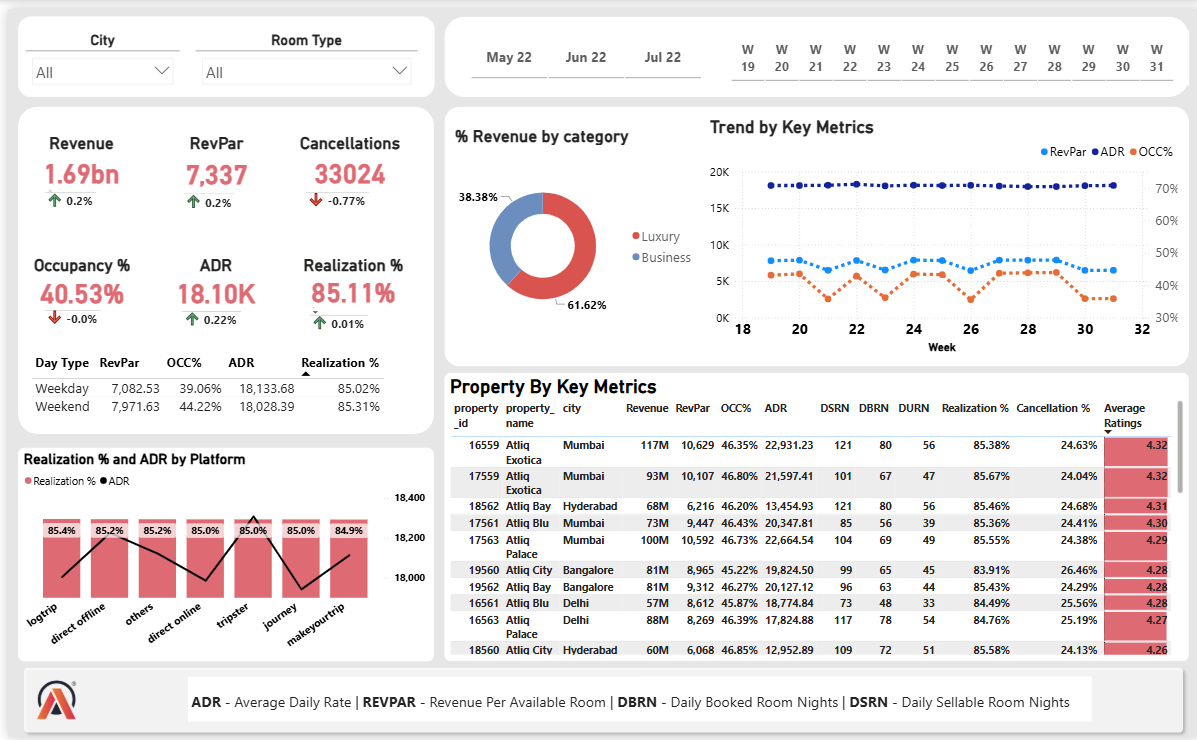

The dashboard page shown, as its layout file describes it:
{"tool":"powerbi","page":{"name":"Performance_dashboard","canvas":[1800,1100],"ordinal":0},"visuals":[{"type":"shape","box":[14.7,11.1,628.5,121.6],"z":0,"group":"g1"},{"type":"shape","box":[658,147.5,1124.3,392.6],"z":0,"group":"g5"},{"type":"tableEx","fields":{"Values":["key_metrics.DSRN WoW change %"]},"box":[443.5,249.4,143.8,82.9],"z":0,"group":"g8"},{"type":"tableEx","fields":{"Values":["key_metrics.Realization WoW change %"]},"box":[447.8,434.5,140.7,65.3],"z":0,"group":"g4"},{"type":"tableEx","title":"Property By Key Metrics","fields":{"Values":["dim_hotels.property_id","dim_hotels.property_name","dim_hotels.city","key_metrics.Revenue","key_metrics.RevPar","key_metrics.OCC%","key_metrics.ADR","key_metrics.DSRN(Daily Sellable Room Nights)","key_metrics.DBRN","key_metrics.DURN","key_metrics.Realization %","key_metrics.Cancellation %"]},"box":[658,549.3,1124.3,435],"z":0},{"type":"shape","box":[14.7,147.5,628.1,494.5],"z":500,"group":"g2"},{"type":"shape","box":[658,11.1,1124.3,121.6],"z":1000,"group":"g3"},{"type":"tableEx","fields":{"Values":["key_metrics.RevPar WoW % change"]},"box":[257.5,250.1,123.5,84.8],"z":1000,"group":"g9"},{"type":"card","title":"Realization %","fields":{"Values":["key_metrics.Realization %"]},"box":[431.7,372.7,178.8,78.8],"z":1000,"group":"g4"},{"type":"shape","box":[14.7,984.3,1767.6,116.1],"z":1000},{"type":"slicer","fields":{"Values":["dim_date.week no"]},"box":[1065.3,31.4,717,82.9],"z":2000,"group":"g3"},{"type":"slicer","title":"City","fields":{"Values":["dim_hotels.city"]},"box":[25.8,33.2,233.2,81.1],"z":2000,"group":"g1"},{"type":"donutChart","title":"% Revenue by category","fields":{"Category":["dim_hotels.category"],"Y":["key_metrics.Revenue"]},"box":[669.4,177,376.1,332.7],"z":2000,"group":"g5"},{"type":"lineStackedColumnComboChart","title":"Realization % and ADR by Platform","fields":{"Category":["fact_bookings.booking_platform"],"Y":["key_metrics.Realization %"],"Y2":["key_metrics.ADRR"]},"box":[15.3,662.5,628.1,322.7],"z":2000},{"type":"slicer","fields":{"Values":["dim_date.mmm yy"]},"box":[673,31.4,396.1,79.3],"z":3000,"group":"g3"},{"type":"slicer","title":"Room Type","fields":{"Values":["dim_rooms.room_class"]},"box":[283.4,33.2,335.4,81.1],"z":3000,"group":"g1"},{"type":"lineChart","title":"Trend by Key Metrics","fields":{"Category":["dim_date.wn"],"Y":["key_metrics.RevPar","key_metrics.ADR1"],"Y2":["key_metrics.OCC%"]},"box":[1054.3,162.9,715.2,362.5],"z":3000,"group":"g5"},{"type":"image","box":[28.1,1007.5,91.6,69.7],"z":3000},{"type":"group","id":"g1","title":"Group 7","box":[14.7,11.1,628.5,121.6],"z":4000},{"type":"textbox","box":[271.4,1007.7,1363.9,68.2],"z":5000},{"type":"group","id":"g2","title":"Group 9","box":[14.7,147.5,628.5,494],"z":6000},{"type":"tableEx","fields":{"Values":["dim_date.day_type","key_metrics.RevPar","key_metrics.OCC%","key_metrics.ADR","key_metrics.Realization %"]},"box":[29.5,514.7,597.6,120.3],"z":6000,"group":"g2"},{"type":"group","id":"g3","title":"Group 8","box":[658,11.1,1124.3,121.6],"z":7000},{"type":"tableEx","fields":{"Values":["key_metrics.Revenue WoW change %"]},"box":[50,249.4,134.6,82.9],"z":7000,"group":"g10"},{"type":"group","id":"g4","title":"Group 1","box":[431.7,372.7,178.8,127.2],"z":7000,"group":"g2"},{"type":"group","id":"g5","title":"Group 10","box":[658,147.5,1124.3,392.6],"z":8000},{"type":"group","id":"g6","title":"Group 2","box":[229.9,371.3,167.2,131.8],"z":8000,"group":"g2"},{"type":"card","title":"RevPar","fields":{"Values":["key_metrics.RevPar"]},"box":[229,188.4,169.5,86.8],"z":9000,"group":"g9"},{"type":"group","id":"g7","title":"Group 3","box":[27.9,371.3,167.2,131.8],"z":9000,"group":"g2"},{"type":"card","title":"Revenue","fields":{"Values":["key_metrics.Revenue"]},"box":[27,189.3,169.1,85.6],"z":10000,"group":"g10"},{"type":"group","id":"g8","title":"Group 4","box":[432.4,189.3,168.6,143],"z":10000,"group":"g2"},{"type":"group","id":"g9","title":"Group 5","box":[229,188.4,169.5,146.4],"z":11000,"group":"g2"},{"type":"card","title":"Cancellations","fields":{"Values":["key_metrics.Cancellations"]},"box":[432.4,189.3,168.6,85.6],"z":11000,"group":"g8"},{"type":"group","id":"g10","title":"Group 6","box":[27,189.3,169.1,143],"z":12000,"group":"g2"},{"type":"tableEx","fields":{"Values":["key_metrics.Occupancy WoW change %"]},"box":[49.1,425.7,125.3,77.4],"z":15000,"group":"g7"},{"type":"card","title":"Occupancy %","fields":{"Values":["key_metrics.OCC%"]},"box":[27.9,371.3,167.2,81.7],"z":16000,"group":"g7"},{"type":"tableEx","fields":{"Values":["key_metrics.ADR WoW % change"]},"box":[256.6,427.6,127.2,75.6],"z":17000,"group":"g6"},{"type":"card","title":"ADR","fields":{"Values":["key_metrics.ADR"]},"box":[229.9,371.3,167.2,81.4],"z":18000,"group":"g6"}]}

Visuals, with their boxes in screenshot pixels (x1, y1, x2, y2), scaled from the page's 1800x1100 canvas onto the 1197x740 screenshot:
shape: detection(10, 7, 428, 89)
shape: detection(438, 99, 1185, 363)
tableEx - key_metrics.DSRN WoW change %: detection(295, 168, 391, 224)
tableEx - key_metrics.Realization WoW change %: detection(298, 292, 391, 336)
"Property By Key Metrics" tableEx: detection(438, 370, 1185, 662)
shape: detection(10, 99, 427, 432)
shape: detection(438, 7, 1185, 89)
tableEx - key_metrics.RevPar WoW % change: detection(171, 168, 253, 225)
"Realization %" card: detection(287, 251, 406, 304)
shape: detection(10, 662, 1185, 739)
slicer - dim_date.week no: detection(708, 21, 1185, 77)
"City" slicer: detection(17, 22, 172, 77)
"% Revenue by category" donutChart: detection(445, 119, 695, 343)
"Realization % and ADR by Platform" lineStackedColumnComboChart: detection(10, 446, 428, 663)
slicer - dim_date.mmm yy: detection(448, 21, 711, 74)
"Room Type" slicer: detection(188, 22, 412, 77)
"Trend by Key Metrics" lineChart: detection(701, 110, 1177, 353)
image: detection(19, 678, 80, 725)
"Group 7" group: detection(10, 7, 428, 89)
textbox: detection(180, 678, 1087, 724)
"Group 9" group: detection(10, 99, 428, 432)
tableEx - dim_date.day_type x key_metrics.RevPar: detection(20, 346, 417, 427)
"Group 8" group: detection(438, 7, 1185, 89)
tableEx - key_metrics.Revenue WoW change %: detection(33, 168, 123, 224)
"Group 1" group: detection(287, 251, 406, 336)
"Group 10" group: detection(438, 99, 1185, 363)
"Group 2" group: detection(153, 250, 264, 338)
"RevPar" card: detection(152, 127, 265, 185)
"Group 3" group: detection(19, 250, 130, 338)
"Revenue" card: detection(18, 127, 130, 185)
"Group 4" group: detection(288, 127, 400, 224)
"Group 5" group: detection(152, 127, 265, 225)
"Cancellations" card: detection(288, 127, 400, 185)
"Group 6" group: detection(18, 127, 130, 224)
tableEx - key_metrics.Occupancy WoW change %: detection(33, 286, 116, 338)
"Occupancy %" card: detection(19, 250, 130, 305)
tableEx - key_metrics.ADR WoW % change: detection(171, 288, 255, 339)
"ADR" card: detection(153, 250, 264, 305)
